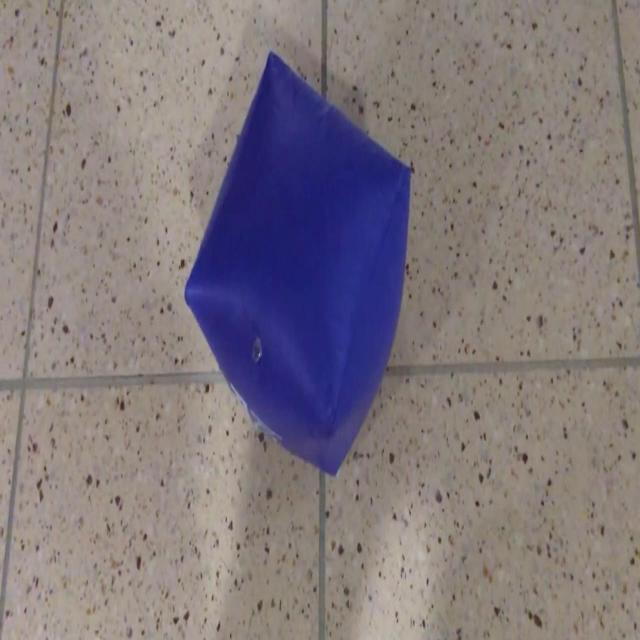frc_cube: (182, 47, 409, 475)
